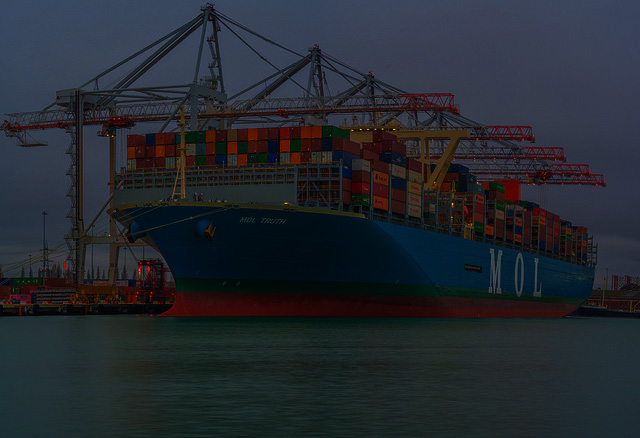container_ship: (107, 116, 598, 317)
